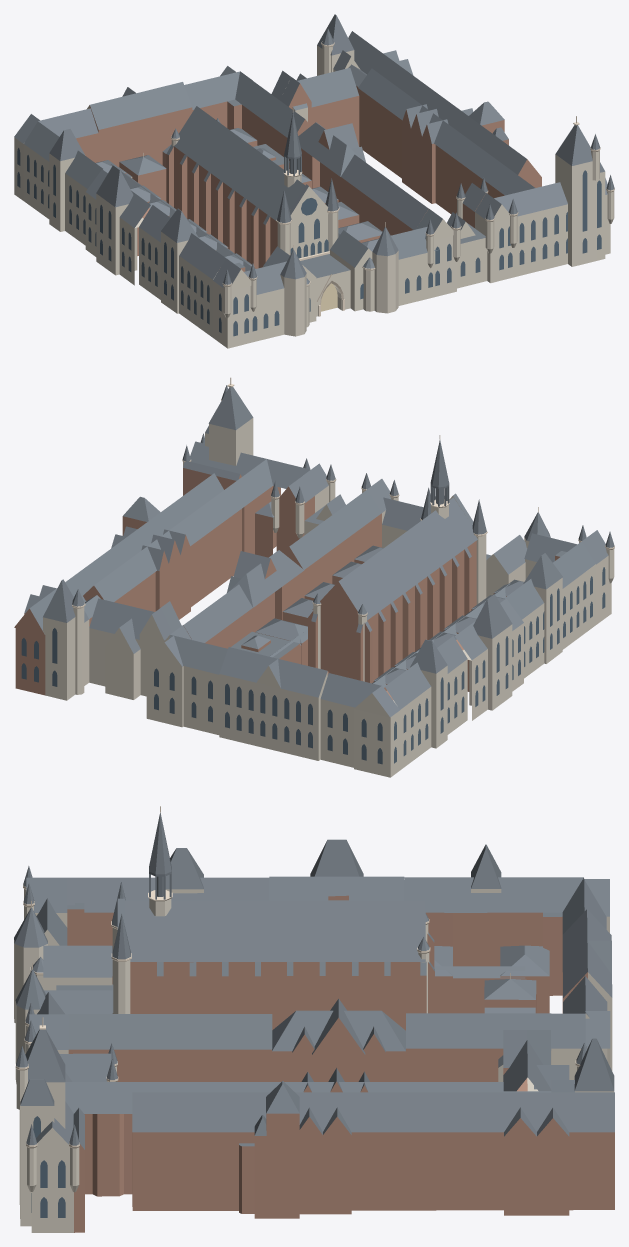
The model's file is london-royal-courts-of-justice.glb.
3 renders of one model, top to bottom at view 1: azimuth 30°, elevation 25°; view 2: azimuth 150°, elevation 25°; view 3: azimuth 270°, elevation 25°, orthographic. The views are drawn at different scales.
Parts seen in each view (by area): view 1: Royal Courts of Justice; view 2: Royal Courts of Justice; view 3: Royal Courts of Justice.
Part boxes in pixels (x1=…): Royal Courts of Justice: x1=14, y1=14, x2=614, y2=348; Royal Courts of Justice: x1=14, y1=377, x2=614, y2=777; Royal Courts of Justice: x1=14, y1=806, x2=614, y2=1232.
Size of the model in its own units: 153 by 65 by 145.
